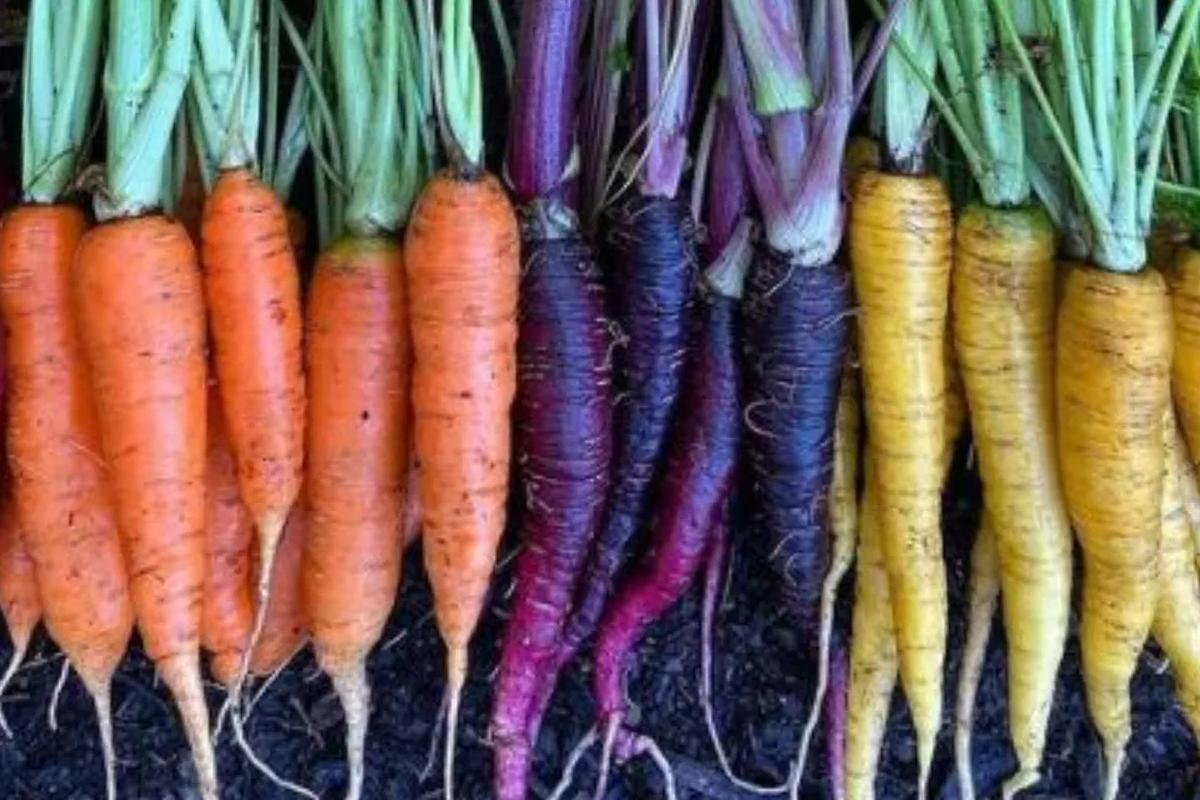carrot: (10, 9, 497, 797), (9, 206, 501, 736), (0, 0, 292, 800), (409, 1, 512, 796), (302, 0, 399, 799)
